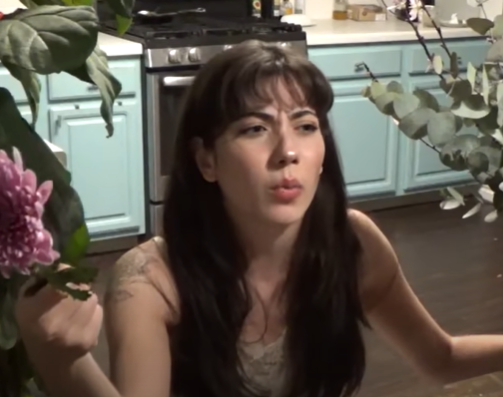person: (12, 38, 502, 397)
